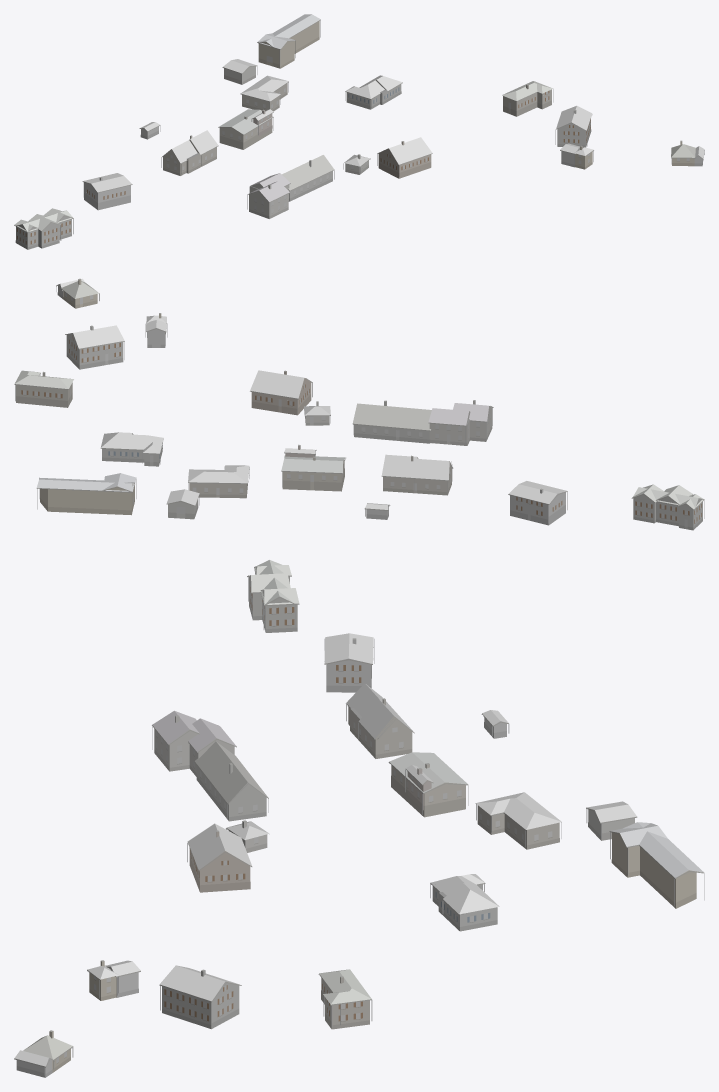
The picture shows the model from 3 angles, top to bottom: view 1: azimuth 30°, elevation 25°; view 2: azimuth 150°, elevation 25°; view 3: azimuth 270°, elevation 25°; orthographic projection. The views are drawn at different scales.
Parts seen in each view (by area): view 1: bld; view 2: bld; view 3: bld.
Boxes of the visible parts, x1=… form: bld: x1=14, y1=14, x2=704, y2=249; bld: x1=14, y1=278, x2=704, y2=530; bld: x1=14, y1=560, x2=704, y2=1077.
Size of the model in its own units: 231 by 15.03 by 142.
